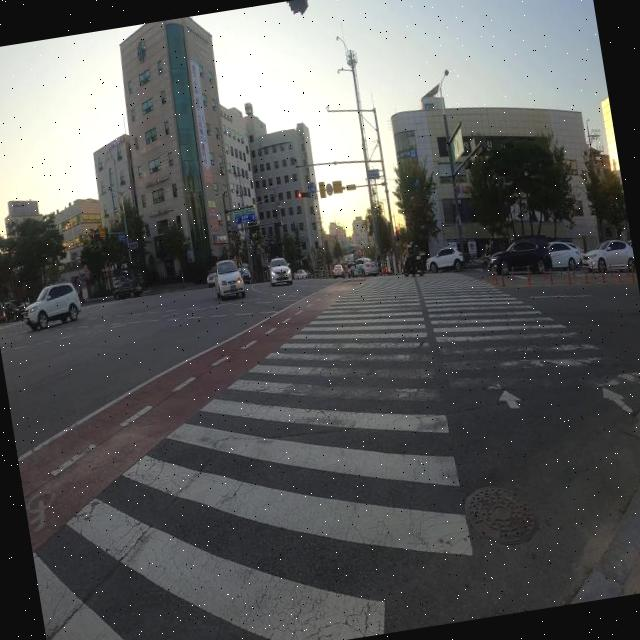crosswalk: (35, 268, 640, 640)
